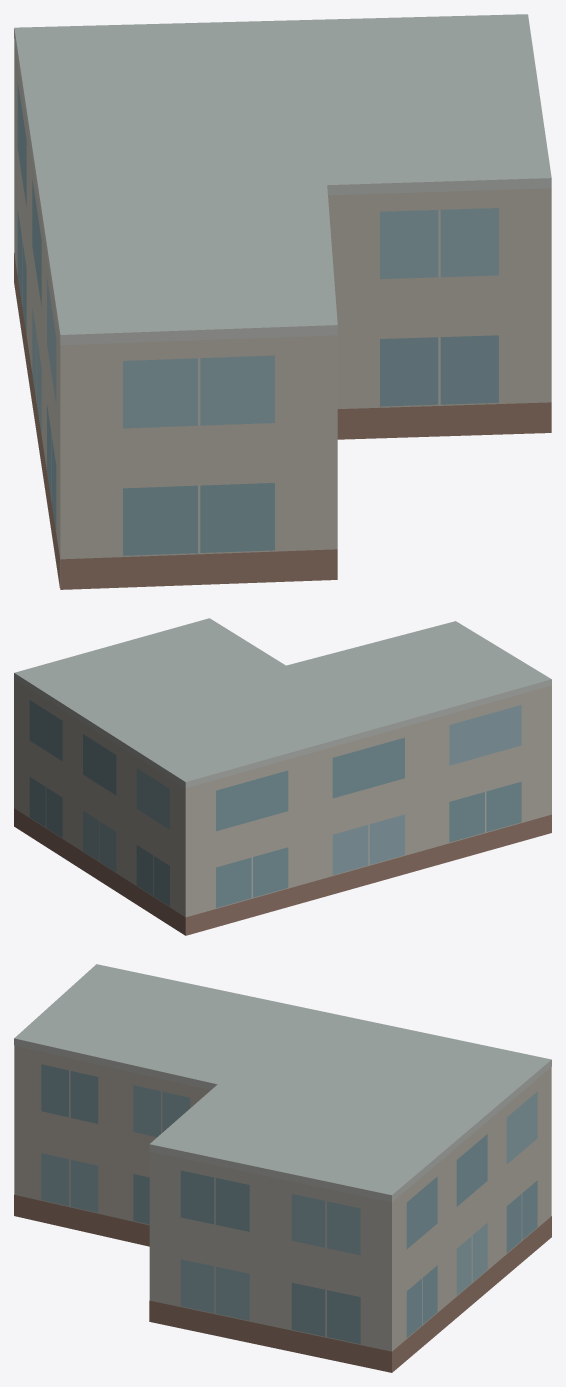
Rendered from survey-upis-32892616.glb.
3 views of the same model, one above another, from view 1: azimuth 30°, elevation 25°; view 2: azimuth 150°, elevation 25°; view 3: azimuth 270°, elevation 25° (orthographic). The views are drawn at different scales.
Visible parts, largest first — view 1: survey-upis-32892616.tmp; view 2: survey-upis-32892616.tmp; view 3: survey-upis-32892616.tmp.
Boxes of the visible parts, x1,y1,x2,y2 form: survey-upis-32892616.tmp: (14, 14, 551, 589); survey-upis-32892616.tmp: (14, 618, 551, 935); survey-upis-32892616.tmp: (14, 964, 551, 1372).
Bounding box in the file's own units: 17.04 × 6.1 × 16.75.
